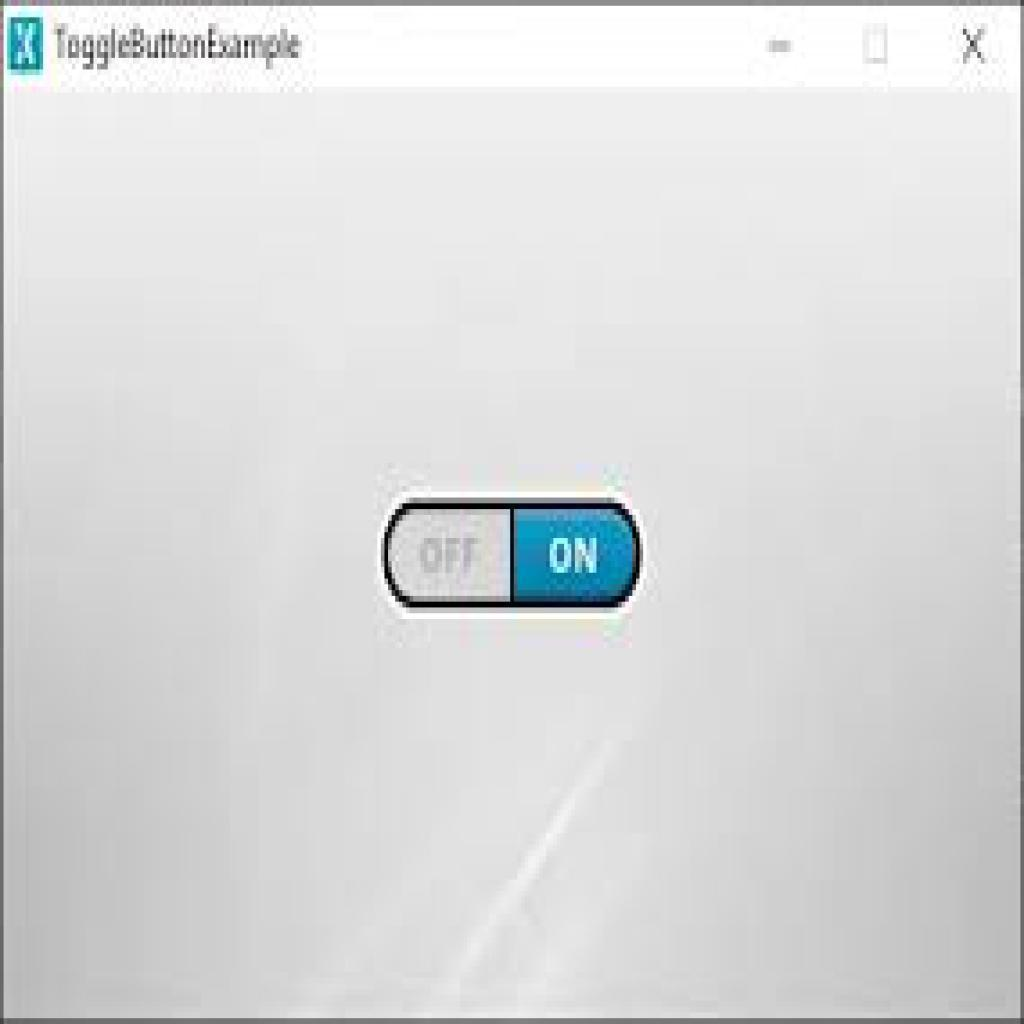switch: (382, 498, 643, 615)
